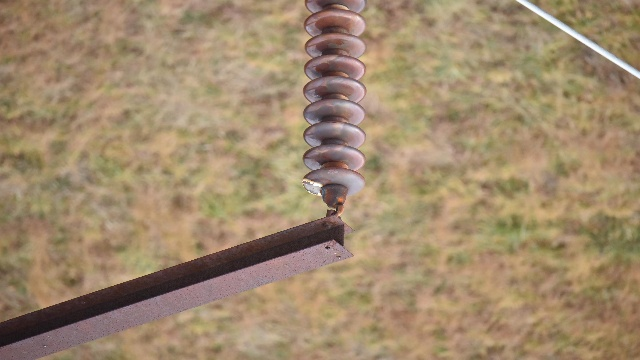insulator_unspecified: (302, 0, 366, 198)
pollution_flashover_local: (303, 177, 326, 198)
